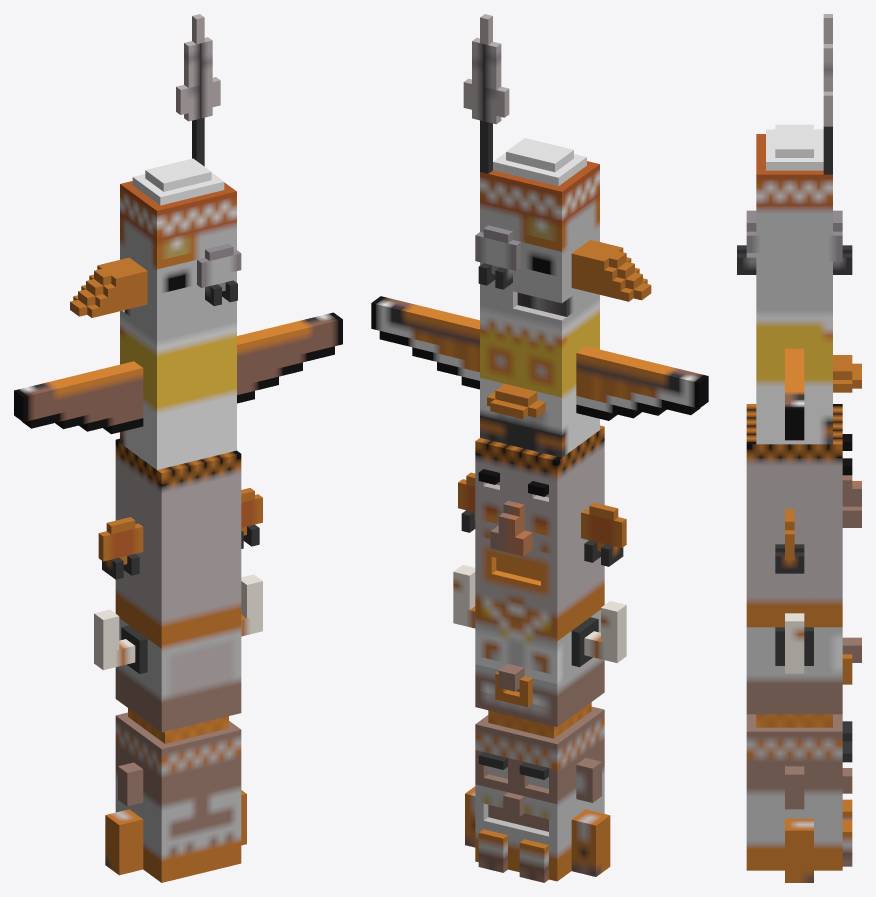
The model's file is totem-1.obj.
3 renders of one model, left to right at view 1: azimuth 30°, elevation 25°; view 2: azimuth 150°, elevation 25°; view 3: azimuth 270°, elevation 25°, orthographic. The views are drawn at different scales.
Bounding box in the file's own units: 40 × 98 × 13.
Materials: 1 (1 with a texture image).
